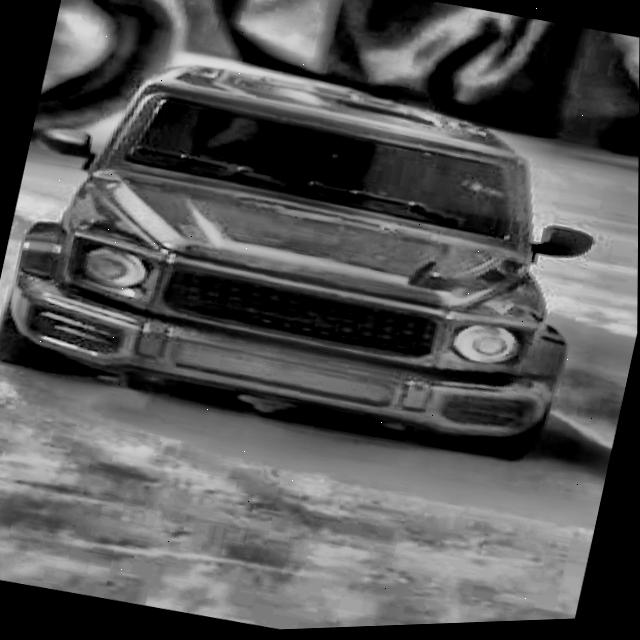light_vehicle: (0, 13, 620, 482)
